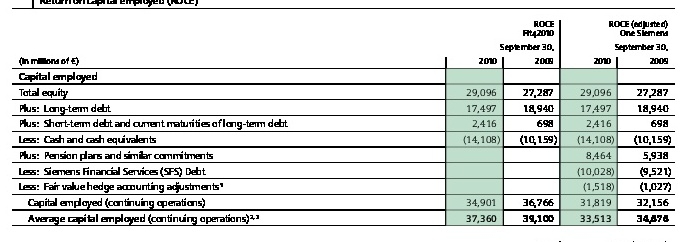table: (0, 0, 685, 242)
